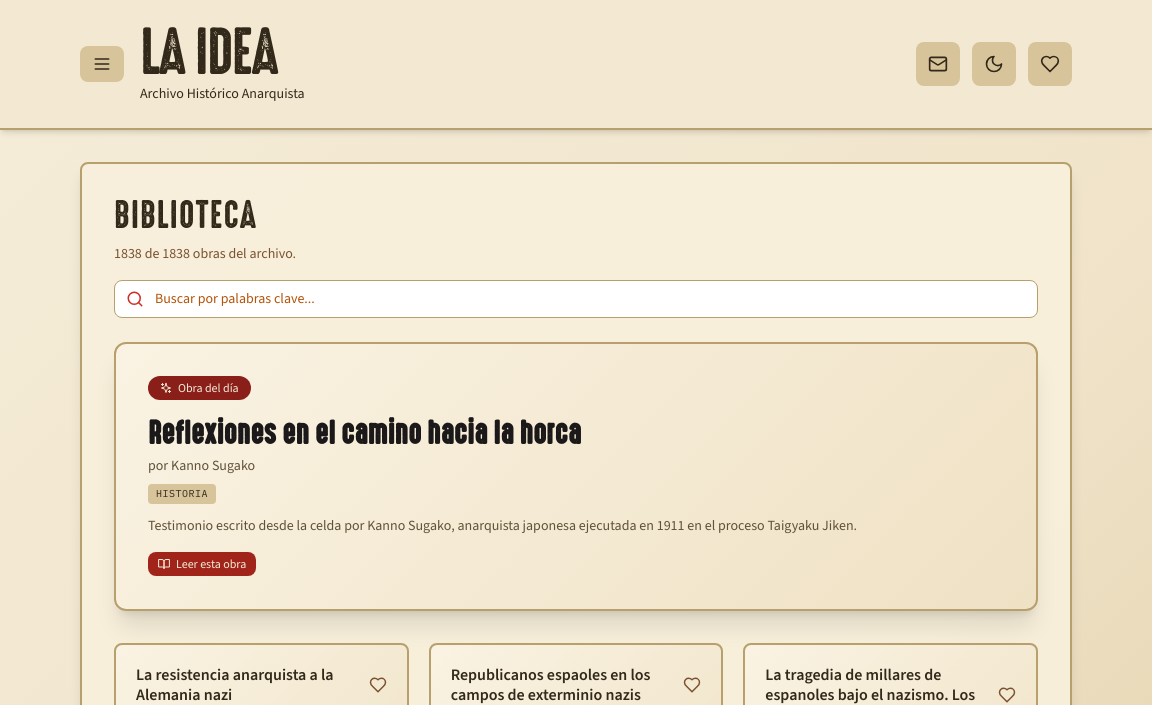
Scenario: Deep links: la navegación escribe la URL › navegar desde el menú actualiza el hash
Click the button named "Abrir menú de navegación": (102, 64) [80, 46, 124, 82]
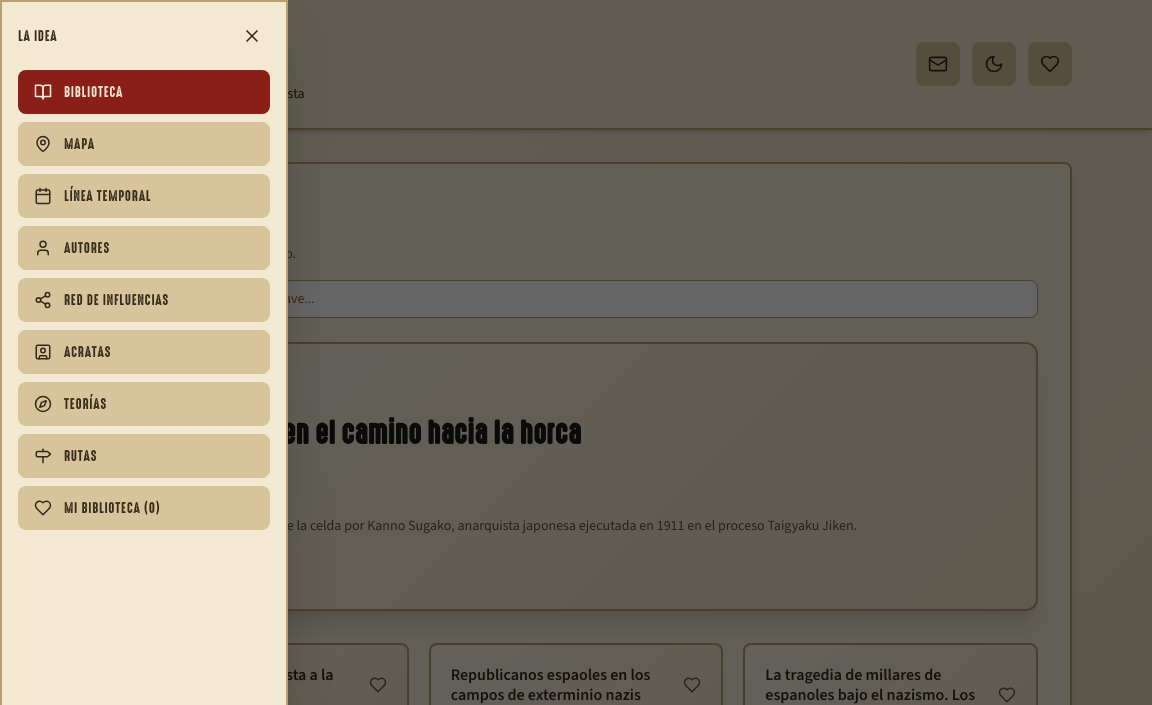
Click the button "Mapa": (144, 144) [18, 122, 270, 166]
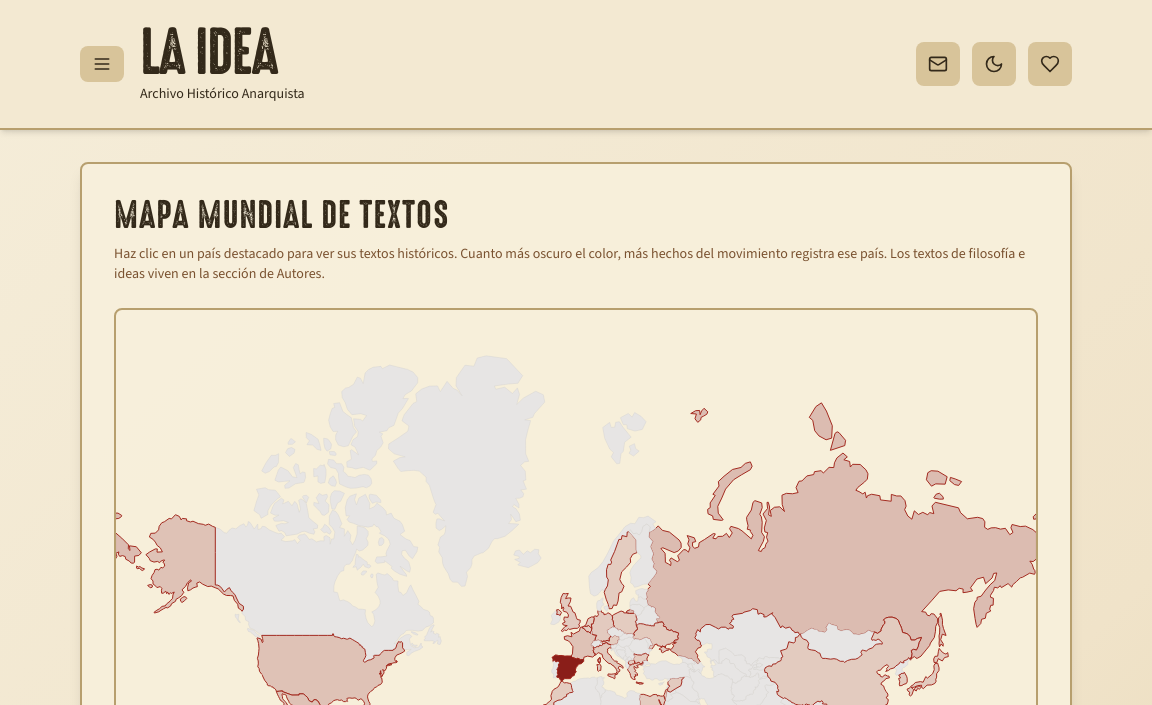
Expected: the heading "Mapa Mundial de Textos" is shown, [114, 196, 450, 236]
